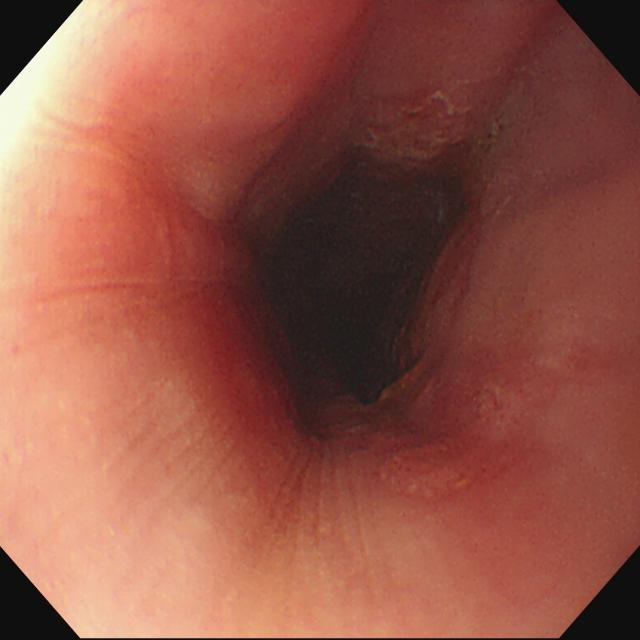A: (349, 92, 472, 199)
E: (299, 224, 392, 377)
